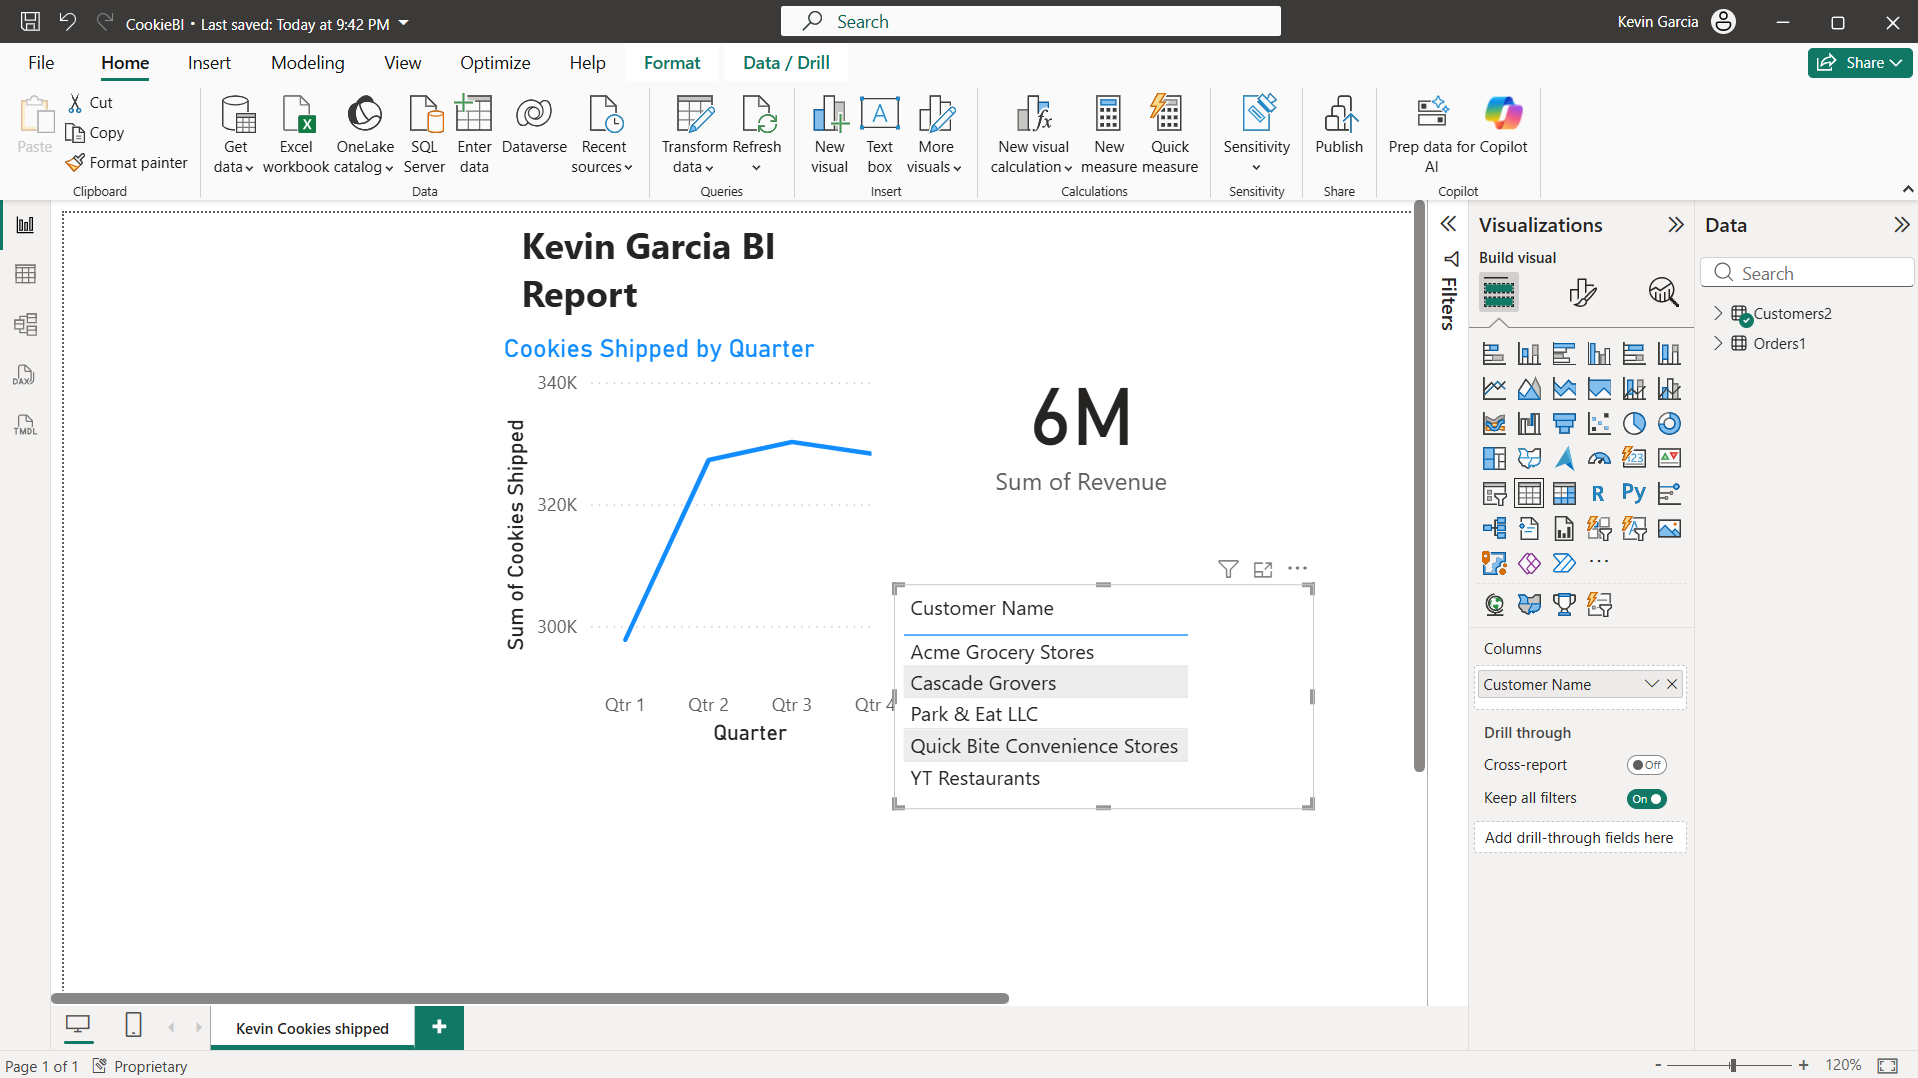

Layout of this report page (visuals, bound fields, positions):
{"tool":"powerbi","page":{"name":"Kevin Cookies shipped","canvas":[1280,720],"ordinal":0},"visuals":[{"type":"lineChart","title":"Cookies Shipped by Quarter","fields":{"Y":["Sum(Orders1.Cookies Shipped)"],"Category":["Orders1.Order Date.Variation.Date Hierarchy.Year","Orders1.Order Date.Variation.Date Hierarchy.Quarter","Orders1.Order Date.Variation.Date Hierarchy.Month","Orders1.Order Date.Variation.Date Hierarchy.Day"]},"box":[288,80,280,280],"z":0},{"type":"card","fields":{"Values":["Sum(Orders1.Revenue)"]},"box":[538,0,280,280],"z":1000},{"type":"tableEx","fields":{"Values":["Customers2.Customer Name"]},"box":[568,256,280,150],"z":2000},{"type":"textbox","box":[300,0,189.1,80],"z":3000}]}

Visuals, with their boxes on the page's 1280x720 design canvas (x1, y1, x2, y2). These are canvas units, not pixel positions in the 1918x1078 screenshot, which may show the page scaled, cropped or inside an application window:
"Cookies Shipped by Quarter" lineChart: region(288, 80, 568, 360)
card - Sum(Orders1.Revenue): region(538, 0, 818, 280)
tableEx - Customers2.Customer Name: region(568, 256, 848, 406)
textbox: region(300, 0, 489, 80)
